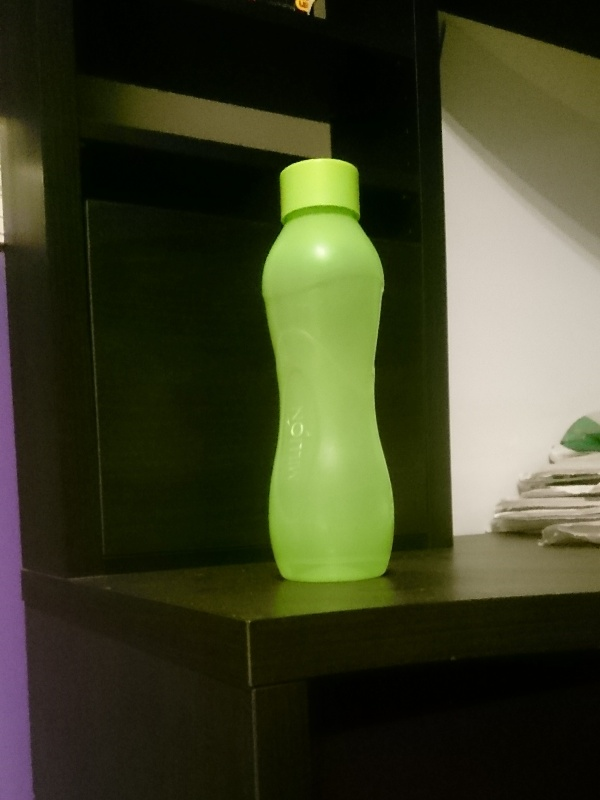my bottle: (263, 160, 394, 586)
